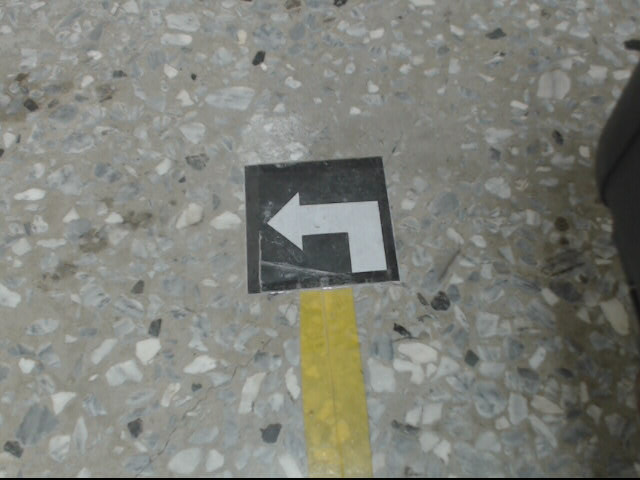left: (244, 157, 403, 292)
